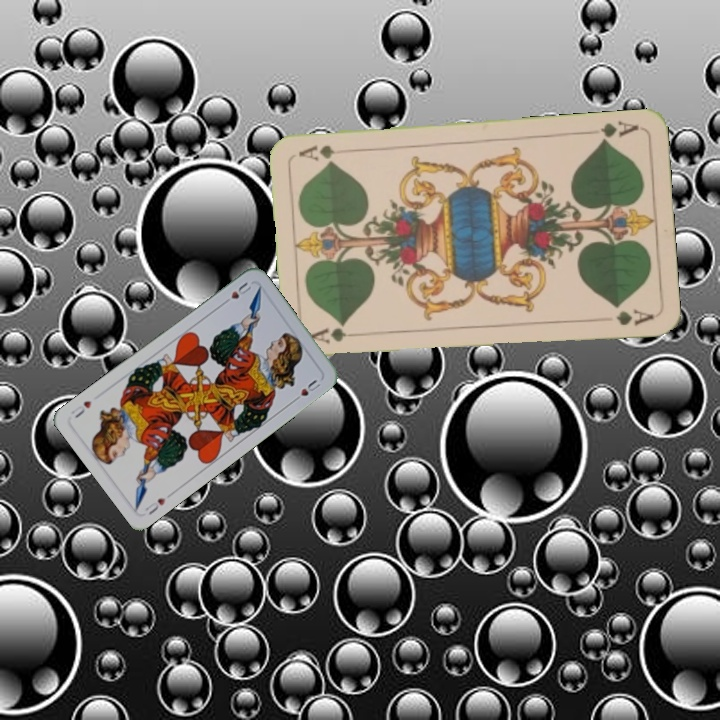GA: (596, 117, 642, 146), (306, 324, 365, 346)
HU: (219, 278, 254, 308), (141, 493, 168, 517)
